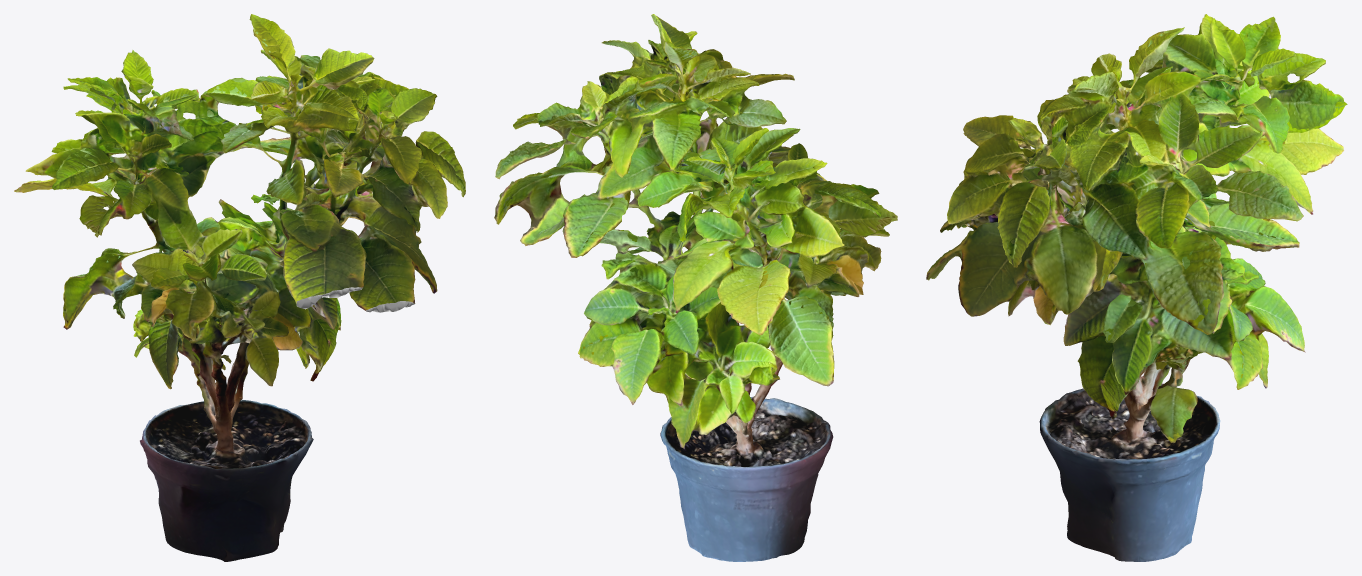
The model's file is indoor_plant2.glb.
The picture shows the model from 3 angles, left to right: view 1: azimuth 30°, elevation 25°; view 2: azimuth 150°, elevation 25°; view 3: azimuth 270°, elevation 25°; orthographic projection. The views are drawn at different scales.
Visible parts, largest first — view 1: Object_2, Object_3; view 2: Object_2; view 3: Object_2.
Boxes of the visible parts, x1,y1,x2,y2 form: Object_2: (14, 14, 465, 561); Object_3: (296, 287, 414, 312); Object_2: (494, 14, 897, 561); Object_2: (926, 14, 1347, 561).
Bounding box in the file's own units: 0.359 × 0.4629 × 0.3305.
2 materials, 1 textured.
